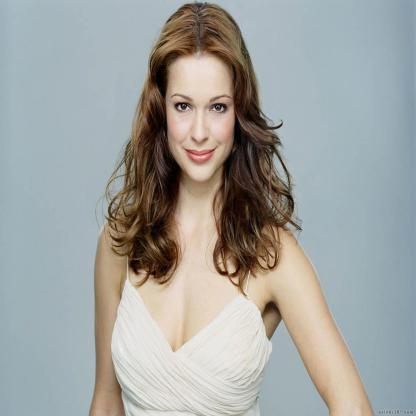long-hair: (102, 182, 300, 250)
